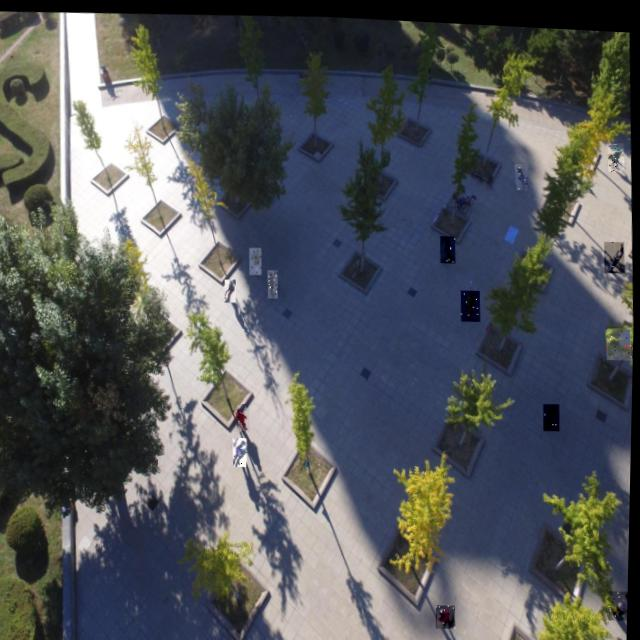Person: (607, 320, 633, 354), (459, 284, 481, 317), (604, 234, 626, 267), (610, 582, 630, 613), (234, 400, 252, 430), (608, 135, 625, 166), (437, 599, 458, 624), (544, 397, 561, 427), (440, 230, 457, 259), (234, 434, 249, 464), (249, 244, 263, 272), (515, 158, 528, 185), (268, 267, 279, 295), (225, 276, 237, 300)
